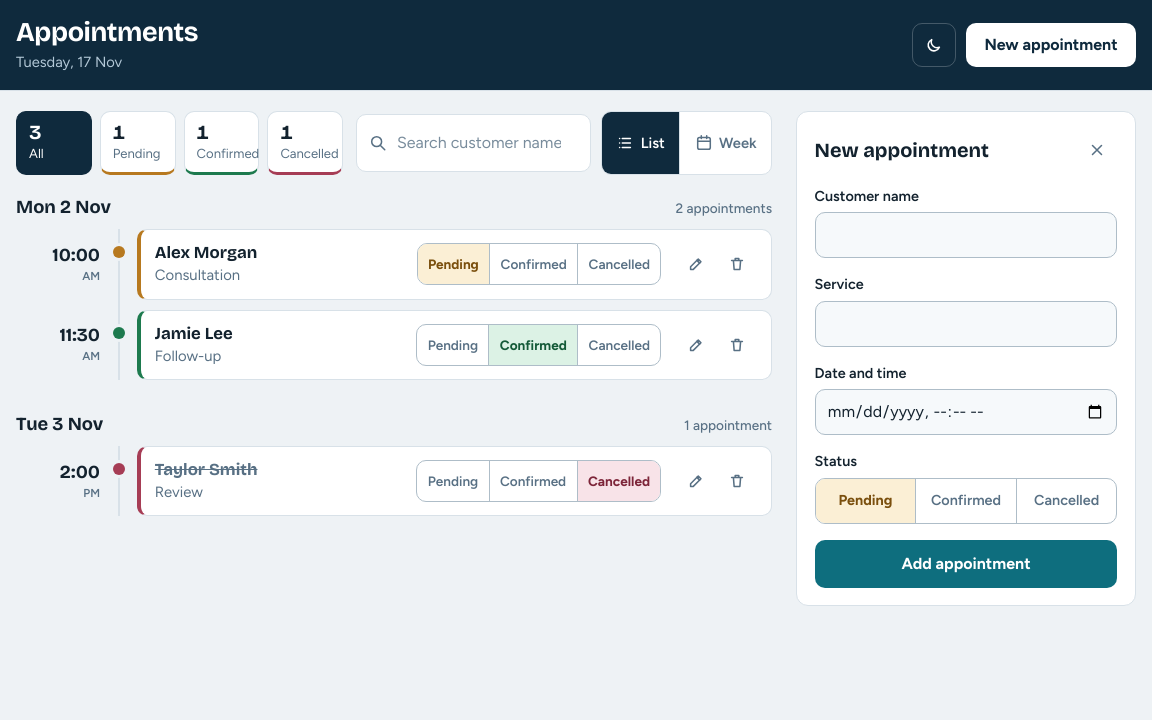
Scenario: Appointment Manager UI › week view shows the week of the first appointment, navigates, and opens edit from a chip
Check: the text "Alex Morgan" is shown, box [155,242,257,263]
Click the button "Week": point(725, 143) [679,112,771,174]
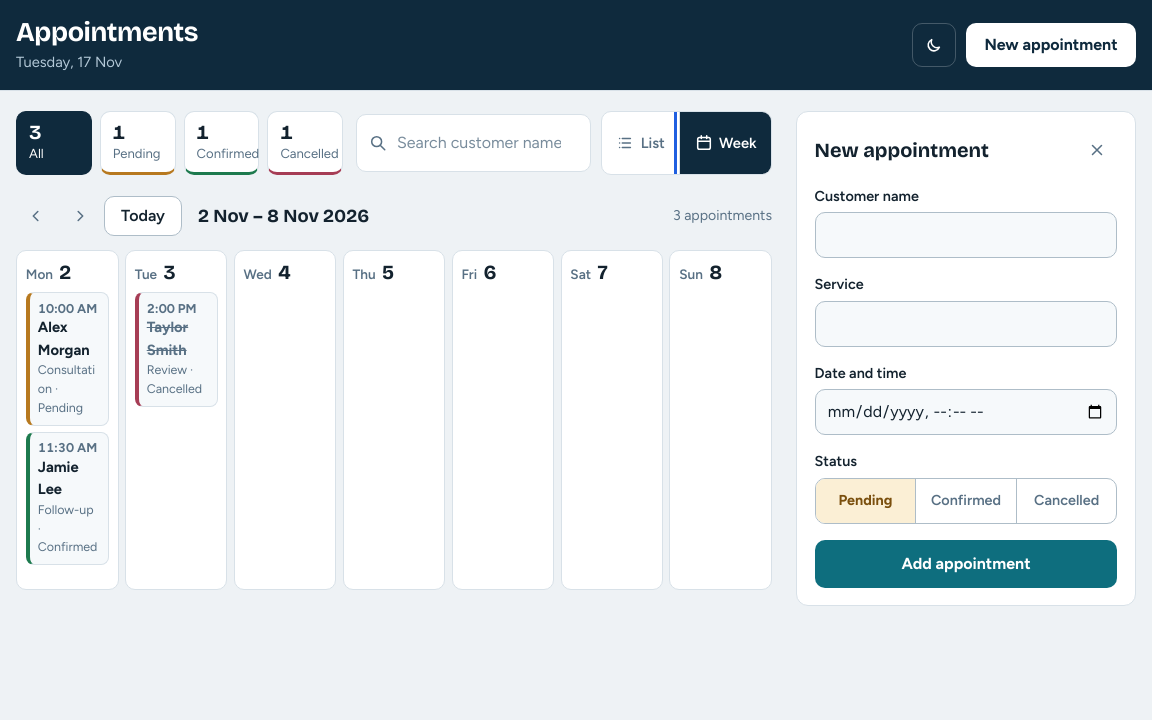
Check: the heading "2 Nov – 8 Nov 2026" is shown, box [198,205,369,227]
Check: the button with aria-label "Edit Jamie Lee, 11:30 AM, Confirmed" is shown, box [26,432,109,565]
Click the button named "Next week": point(80, 216) [60,196,100,236]
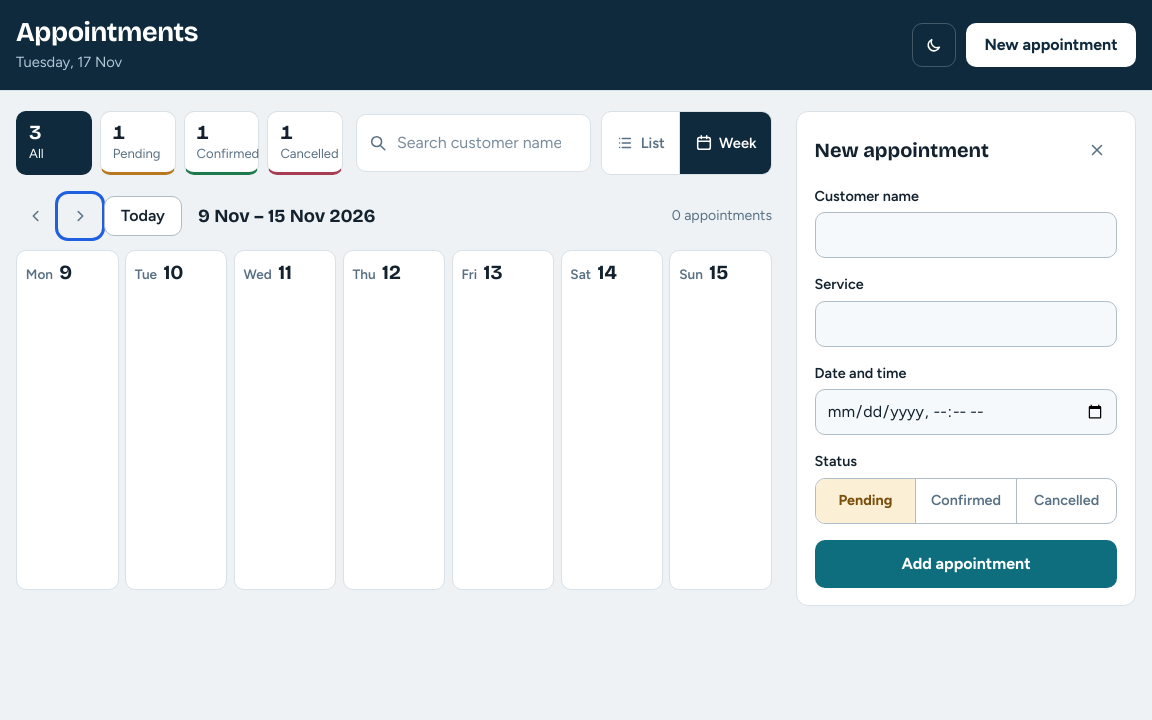
Check: the heading "9 Nov – 15 Nov 2026" is shown, box [198,205,376,227]
Click the button named "Previous week": point(36, 216) [16,196,56,236]
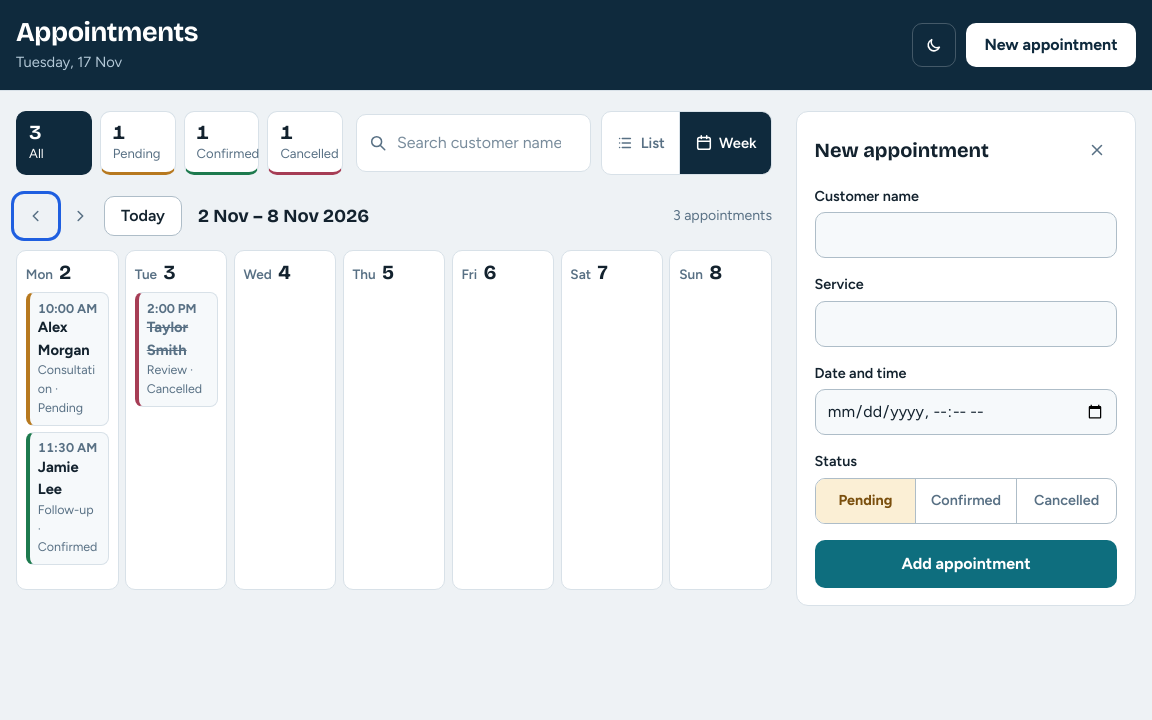
Click the button with aria-label "Edit Alex Morgan": point(67, 359) [26,292,109,426]
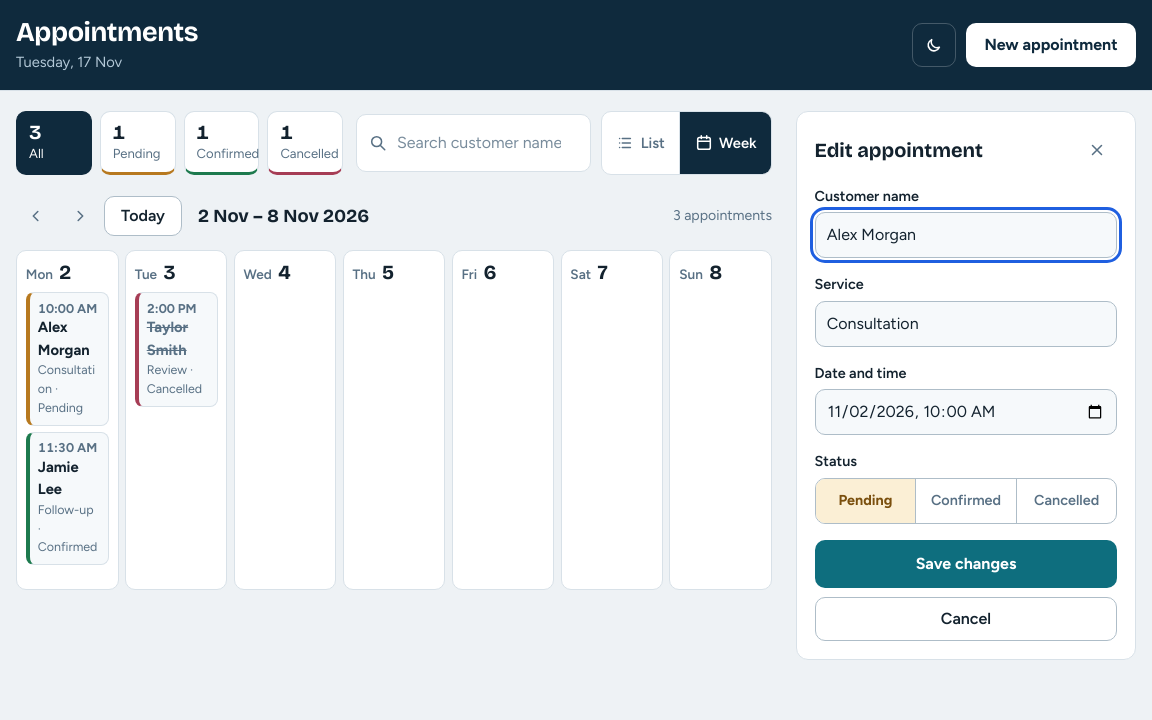
Check: the heading "Edit appointment" is shown, box [815,138,983,162]
